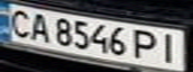4: (90, 21, 112, 55)
5: (69, 19, 93, 52)
6: (109, 25, 133, 57)
8: (51, 15, 75, 47)
A: (24, 10, 54, 43)
C: (3, 6, 36, 38)
I: (154, 30, 184, 64)
P: (130, 27, 163, 61)
